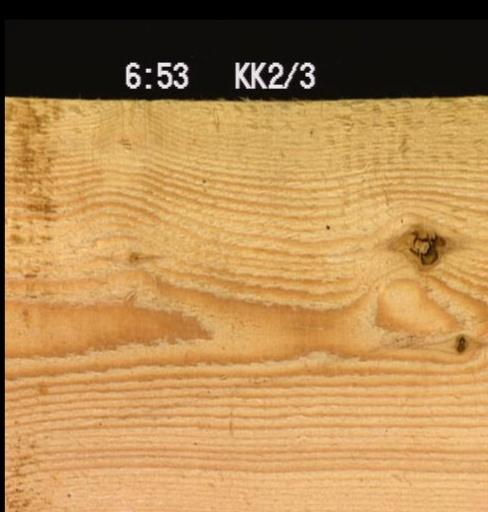dry_knot: (451, 332, 466, 353)
